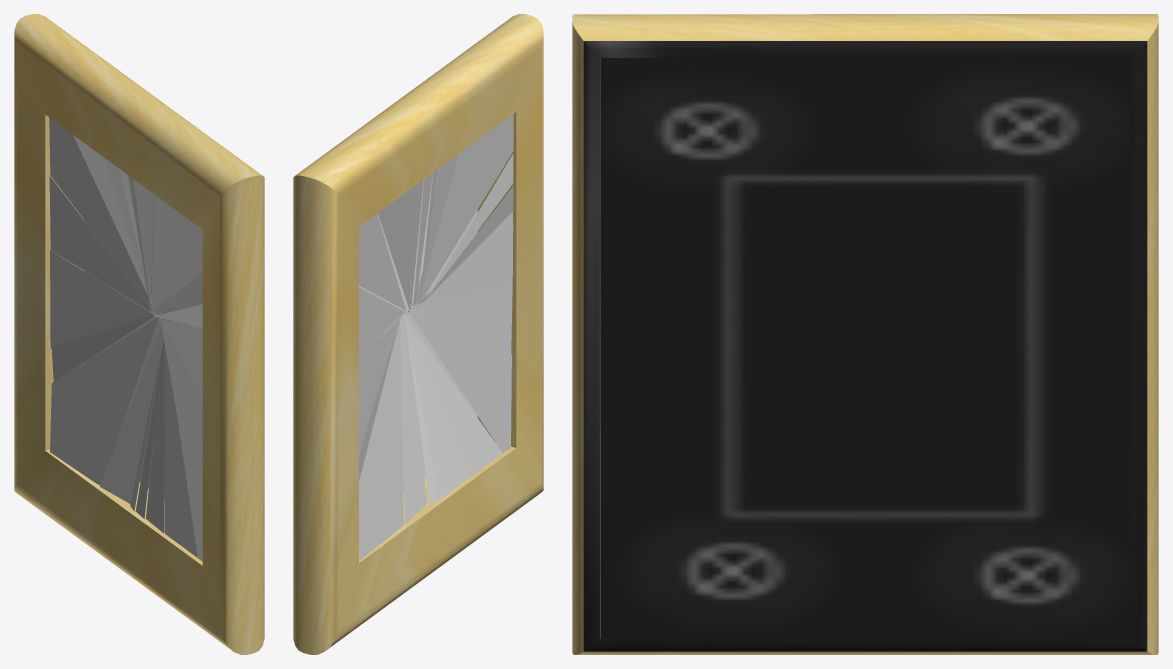
Rendered from picture_frame_1.fbx.
The picture shows the model from 3 angles, left to right: view 1: azimuth 30°, elevation 25°; view 2: azimuth 150°, elevation 25°; view 3: azimuth 270°, elevation 25°; orthographic projection. The views are drawn at different scales.
Visible parts, largest first — view 1: picture_frame1; view 2: picture_frame1; view 3: picture_frame1.
Boxes of the visible parts, left/top/right/bottom form: picture_frame1: left=14, top=14, right=264, bottom=654; picture_frame1: left=293, top=14, right=543, bottom=654; picture_frame1: left=572, top=14, right=1158, bottom=654.
Bounding box in the file's own units: 0.162 × 1.7 × 1.43.
4 materials, 3 textured.
